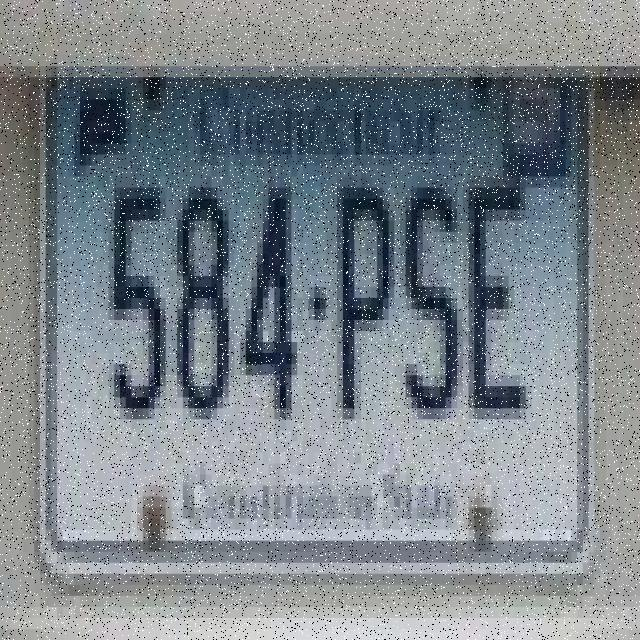licenseplate: (41, 62, 599, 575)
